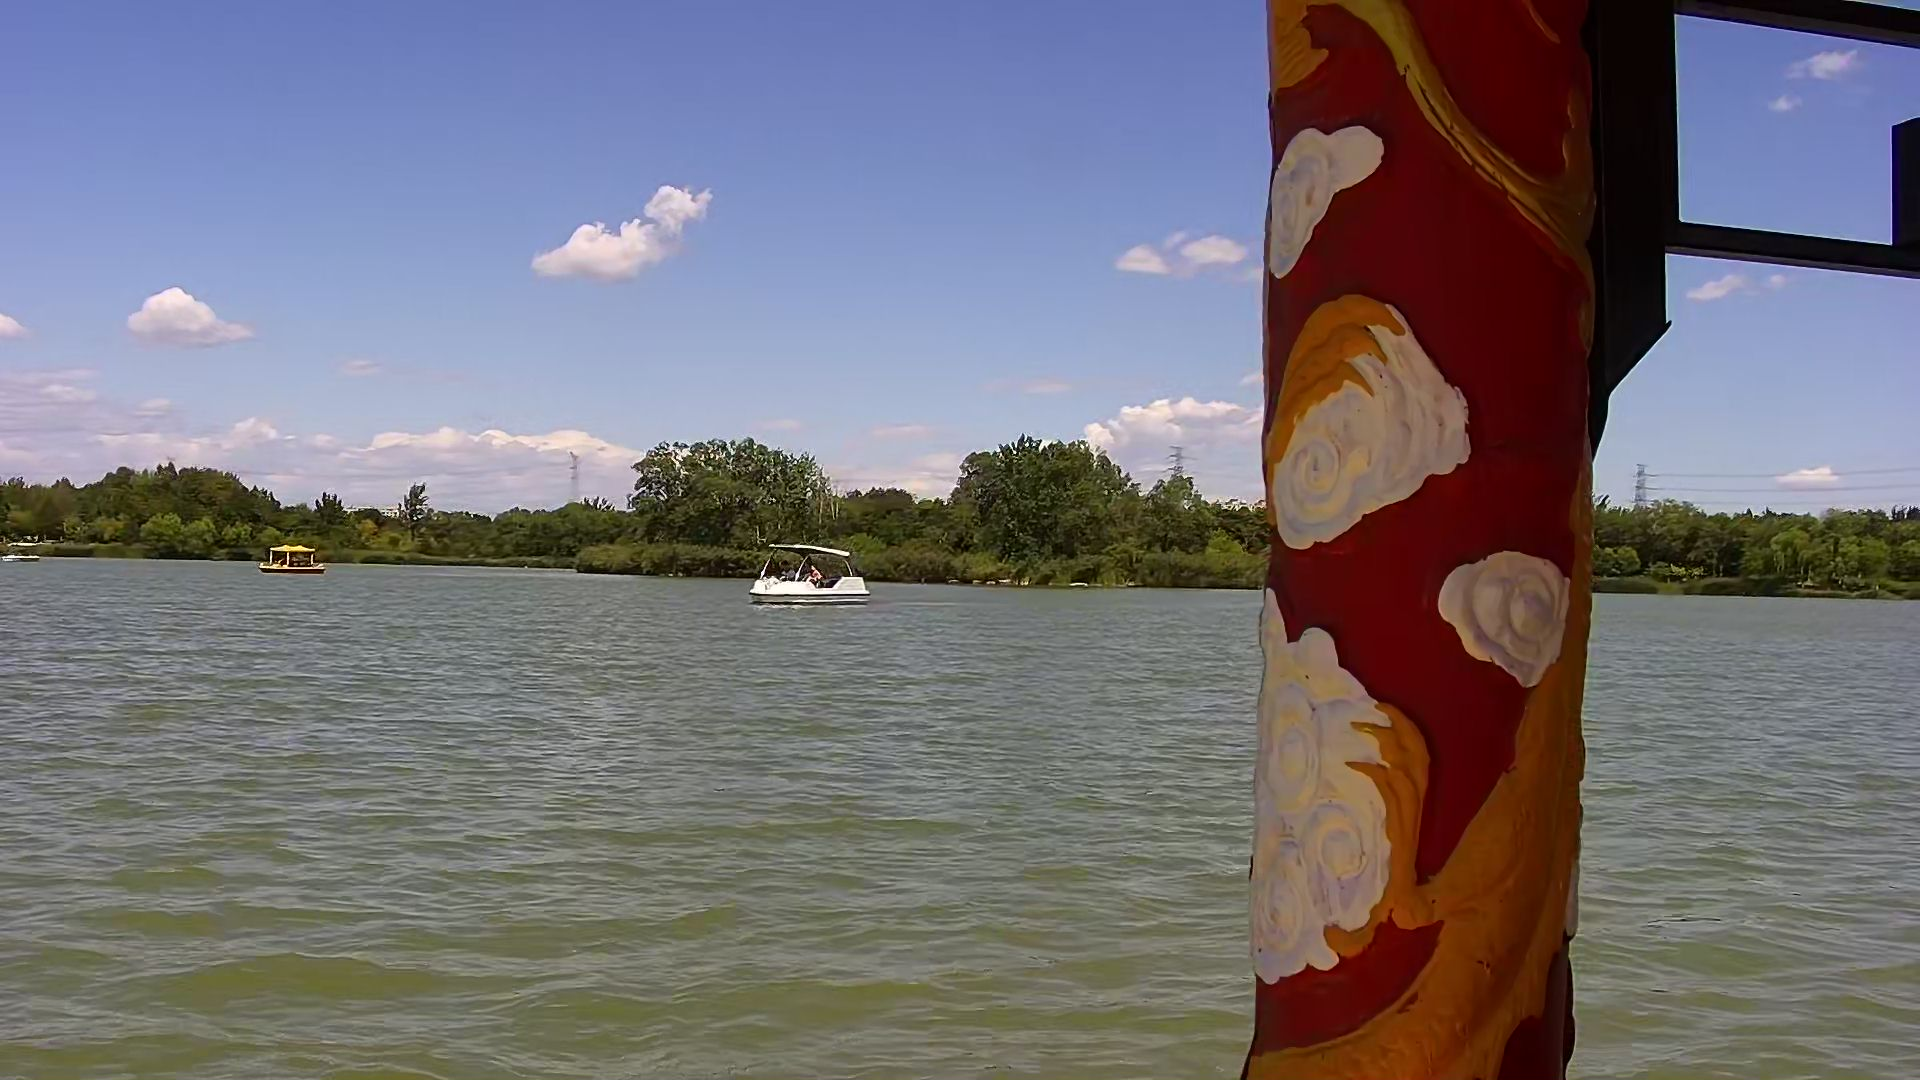boat: (745, 535, 872, 604), (262, 541, 326, 576), (4, 538, 40, 563)
